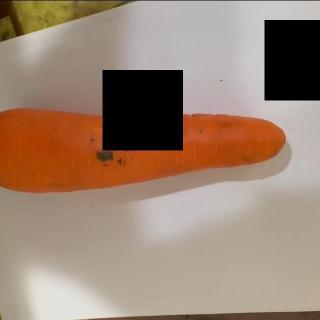carrot: (0, 99, 289, 199)
